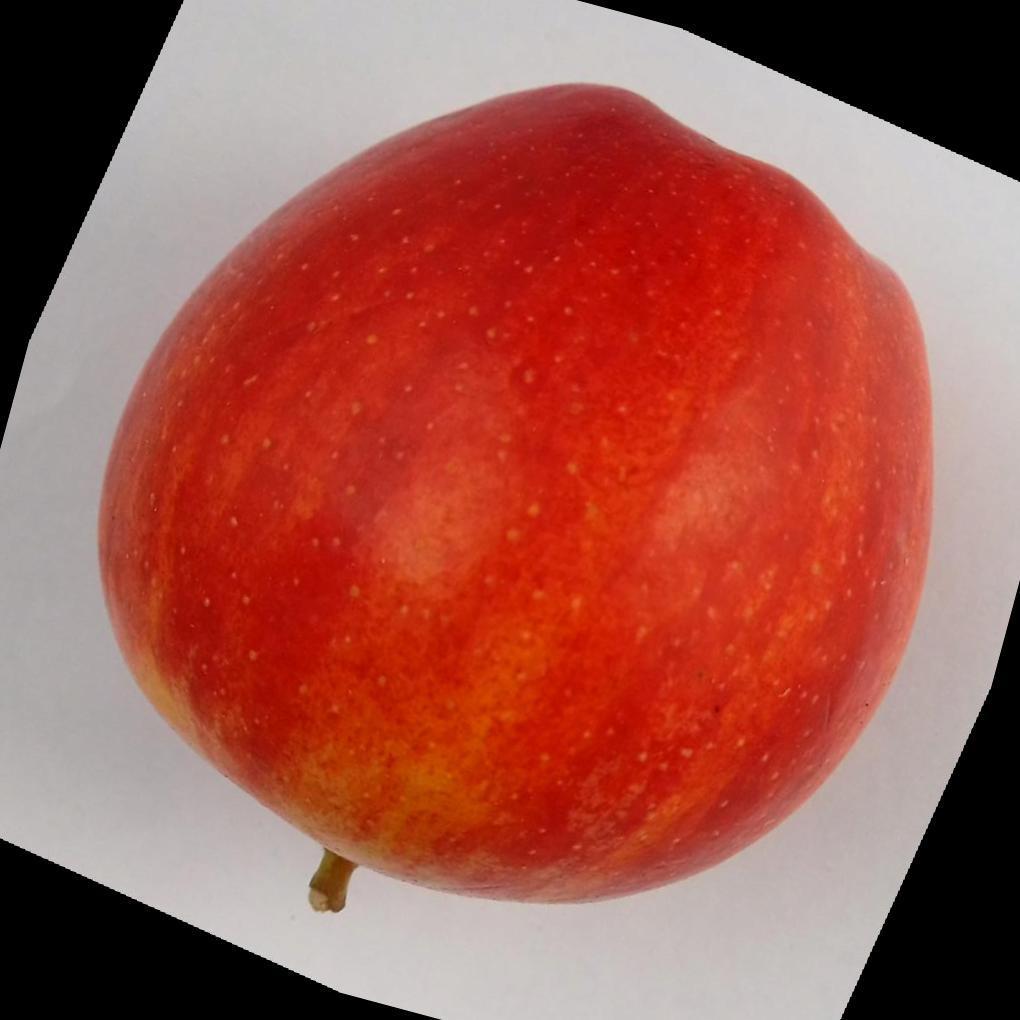FreshGuava: (90, 79, 932, 905)
